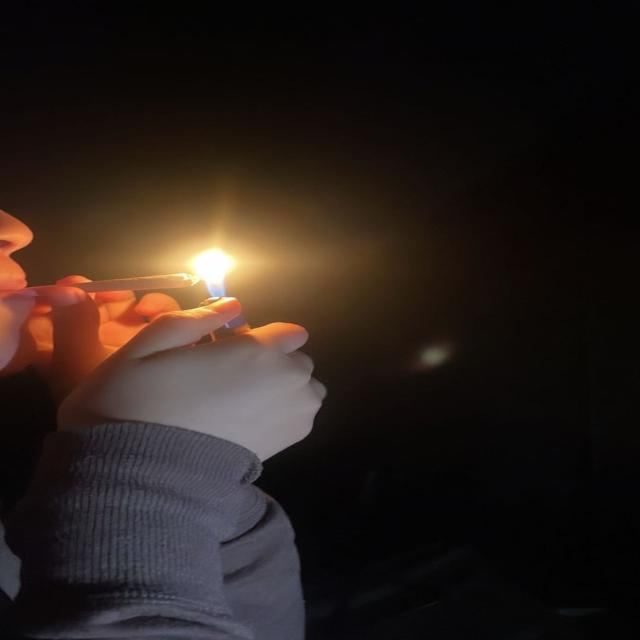fire: (189, 247, 236, 301)
